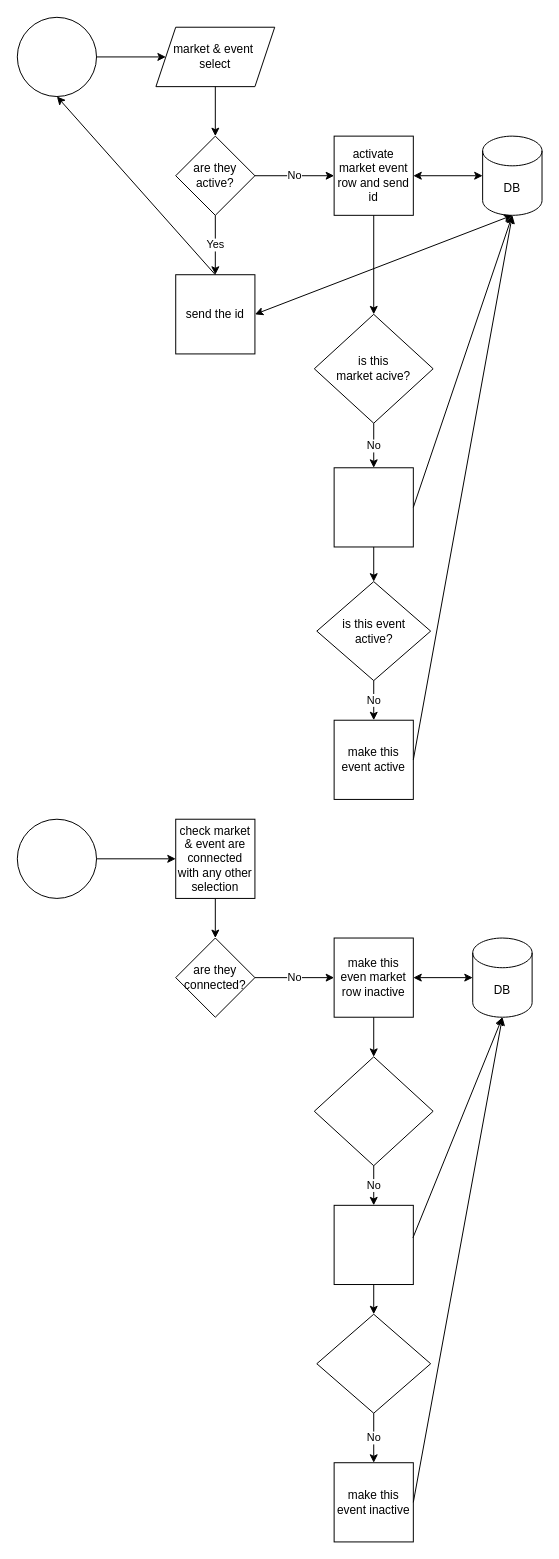
This 559x1559 diagram has some shape labels left out. The shapes that lost their labels are listed below. From the top down, each one's box as (x1, y1, x2, y2) in pixels, then its label:
(16, 16, 97, 97): make selection
(333, 467, 413, 547): make this market active
(16, 818, 97, 898): delete selection
(313, 1056, 433, 1166): is this market acive with any other row?
(333, 1204, 413, 1285): make this market inactive
(316, 1313, 431, 1413): is this event active in any other row?
